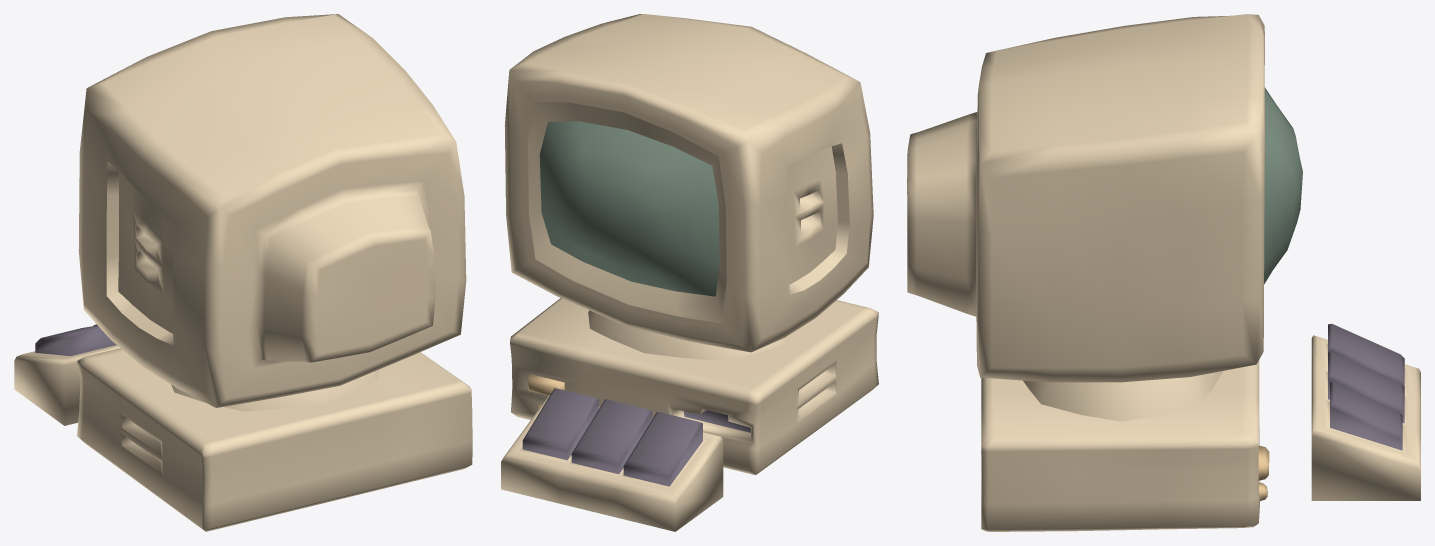
File: props_computer.fbx
3 renders of one model, left to right at view 1: azimuth 30°, elevation 25°; view 2: azimuth 150°, elevation 25°; view 3: azimuth 270°, elevation 25°, orthographic. The views are drawn at different scales.
Visible parts, largest first — view 1: computer; view 2: computer; view 3: computer.
Part boxes in pixels (x1,y1,x2,y2): computer: (14, 14, 472, 531); computer: (501, 14, 878, 531); computer: (907, 14, 1420, 531).
Bounding box in the file's own units: 0.8568 × 1.29 × 1.15.
